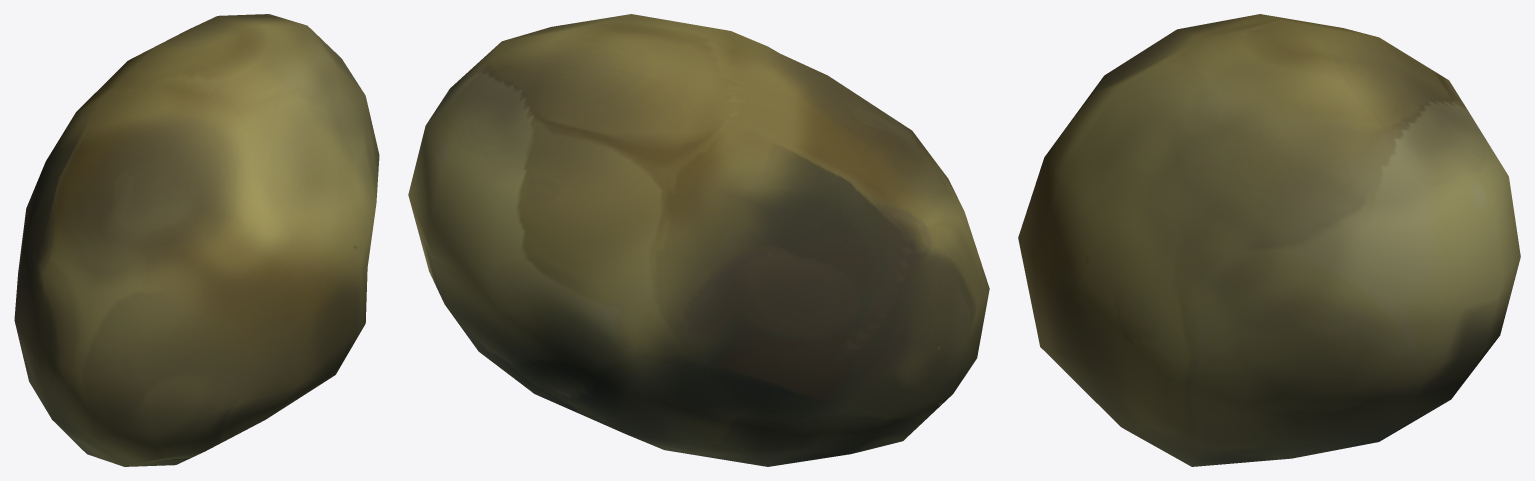
Rendered from rock.fbx.
The picture shows the model from 3 angles, left to right: view 1: azimuth 30°, elevation 25°; view 2: azimuth 150°, elevation 25°; view 3: azimuth 270°, elevation 25°; orthographic projection. The views are drawn at different scales.
Visible parts, largest first — view 1: Cube; view 2: Cube; view 3: Cube.
Boxes of the visible parts, x1,y1,x2,y2 form: Cube: (14, 14, 379, 466); Cube: (408, 14, 989, 466); Cube: (1018, 14, 1520, 466).
Size of the model in its own units: 205 by 181 by 185.
